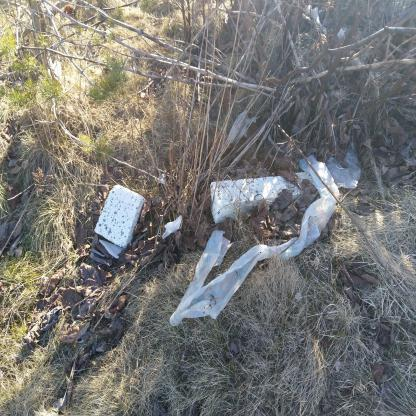kopuk: (210, 173, 326, 225), (95, 186, 147, 250)
